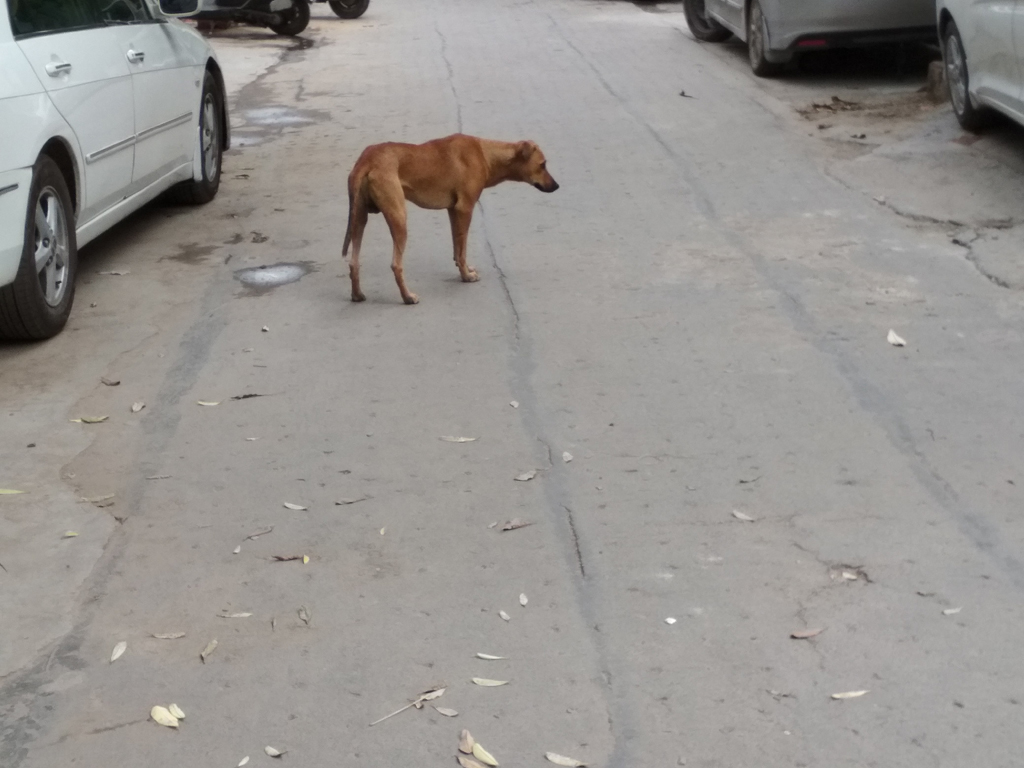dog: (342, 133, 560, 307)
